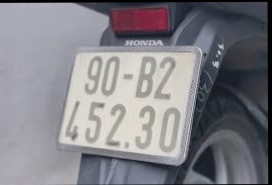Bien-so: (56, 43, 204, 165)
